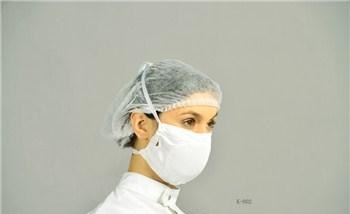face_mask: (151, 93, 216, 186)
